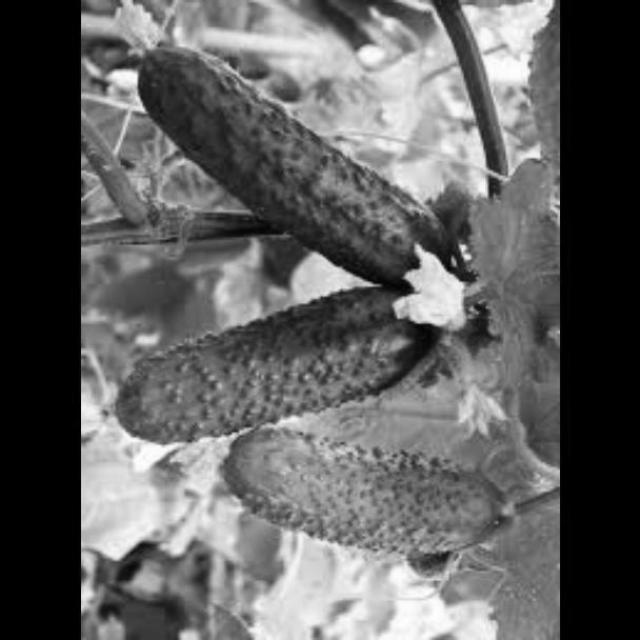cucumber: (110, 29, 456, 302), (82, 286, 455, 451), (188, 433, 538, 554)
